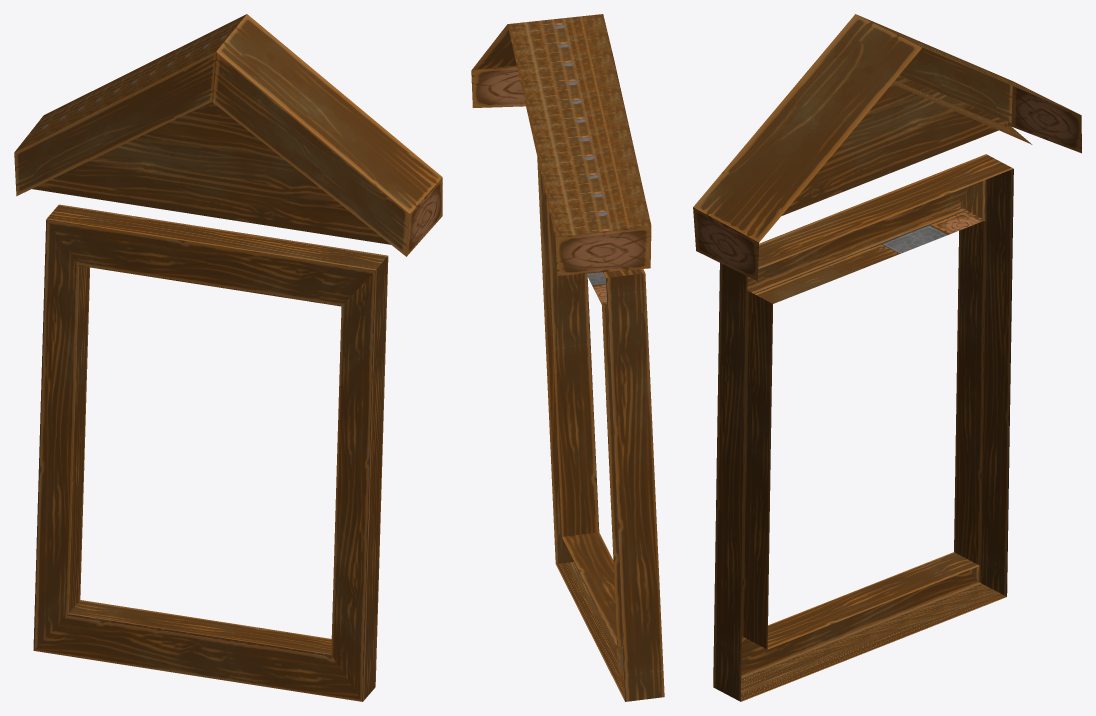
The picture shows the model from 3 angles, left to right: view 1: azimuth 30°, elevation 25°; view 2: azimuth 150°, elevation 25°; view 3: azimuth 270°, elevation 25°; orthographic projection. The views are drawn at different scales.
Visible parts, largest first — view 1: Cube.728; view 2: Cube.728; view 3: Cube.728.
Part boxes in pixels (x1=…): Cube.728: x1=14, y1=14, x2=442, y2=701; Cube.728: x1=471, y1=14, x2=664, y2=701; Cube.728: x1=693, y1=14, x2=1081, y2=701.
Bounding box in the file's own units: 235 × 456 × 253.
Materials: 1 (1 with a texture image).
